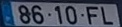0: (64, 4, 78, 25)
1: (53, 4, 63, 25)
6: (30, 4, 44, 25)
8: (17, 3, 31, 25)
F: (85, 6, 99, 25)
L: (100, 5, 114, 25)
